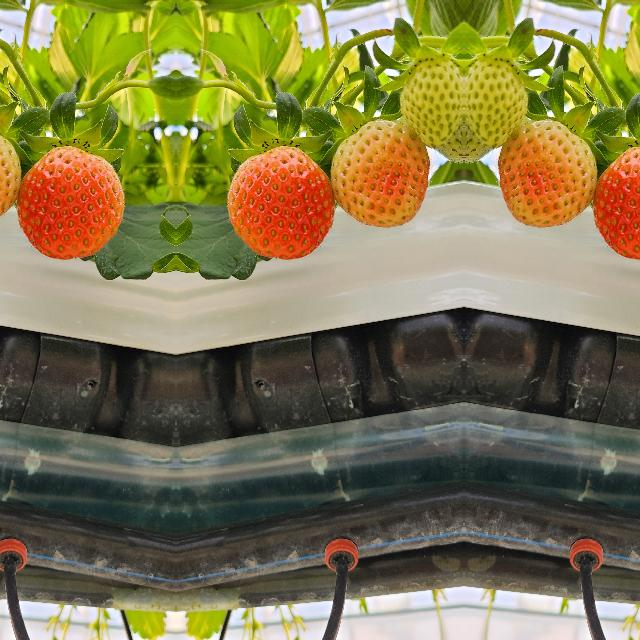Health_100: (226, 146, 334, 260), (16, 146, 124, 260), (592, 146, 640, 259)
Health_25: (400, 59, 462, 170), (464, 59, 526, 170)
Health_50: (329, 124, 426, 236), (499, 124, 596, 236), (0, 124, 20, 235)
